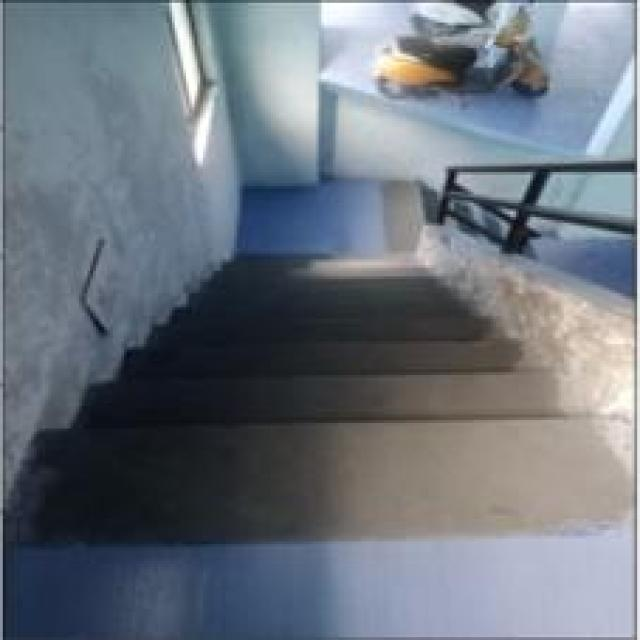stair: (99, 338, 524, 499)
